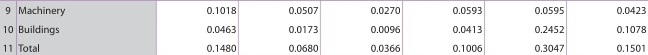column: (18, 1, 67, 55), (370, 1, 402, 55), (451, 1, 483, 55), (615, 1, 647, 55), (287, 1, 318, 55), (534, 1, 565, 55), (206, 1, 237, 54), (3, 1, 13, 55)
row: (1, 23, 648, 35), (1, 5, 648, 15), (1, 43, 648, 53)
